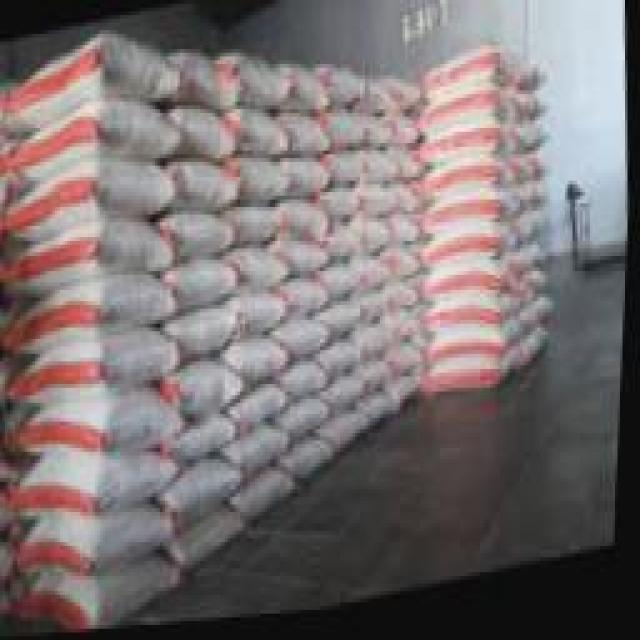gunny_bag: (12, 47, 185, 129), (13, 163, 173, 241), (16, 563, 179, 634), (31, 387, 172, 464), (19, 280, 168, 351), (27, 505, 167, 579), (26, 333, 173, 403), (10, 237, 170, 301), (22, 455, 171, 523), (25, 111, 170, 175), (173, 458, 246, 544), (424, 194, 510, 246), (425, 164, 515, 212), (421, 93, 504, 145), (431, 324, 510, 370), (425, 129, 502, 175), (429, 57, 498, 108), (179, 361, 239, 418), (238, 381, 290, 446), (243, 472, 299, 532), (428, 232, 504, 276), (434, 301, 509, 343), (177, 260, 235, 310), (179, 307, 231, 361), (234, 58, 286, 111), (180, 108, 234, 157), (178, 213, 234, 257), (236, 116, 287, 163), (175, 167, 238, 205), (186, 419, 233, 468), (436, 275, 505, 308), (241, 292, 287, 341), (286, 317, 329, 367), (330, 412, 373, 457), (292, 400, 333, 444), (297, 438, 335, 485), (328, 299, 365, 347), (287, 76, 328, 117), (326, 345, 364, 387), (242, 167, 288, 201), (241, 211, 282, 249), (286, 209, 328, 245), (288, 360, 324, 402), (286, 126, 328, 159), (330, 115, 366, 153), (332, 379, 366, 419), (288, 167, 330, 199), (363, 257, 399, 294), (358, 326, 393, 362), (325, 267, 359, 302), (244, 256, 281, 287), (390, 317, 422, 351), (330, 160, 361, 192), (327, 196, 364, 221), (392, 349, 425, 377), (365, 160, 401, 183)
